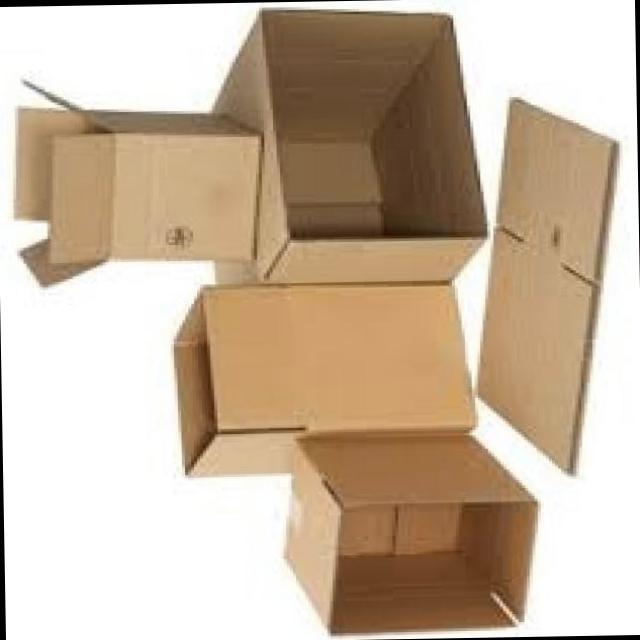cardboard paper: (173, 282, 471, 473), (475, 98, 613, 468), (13, 106, 259, 282)
